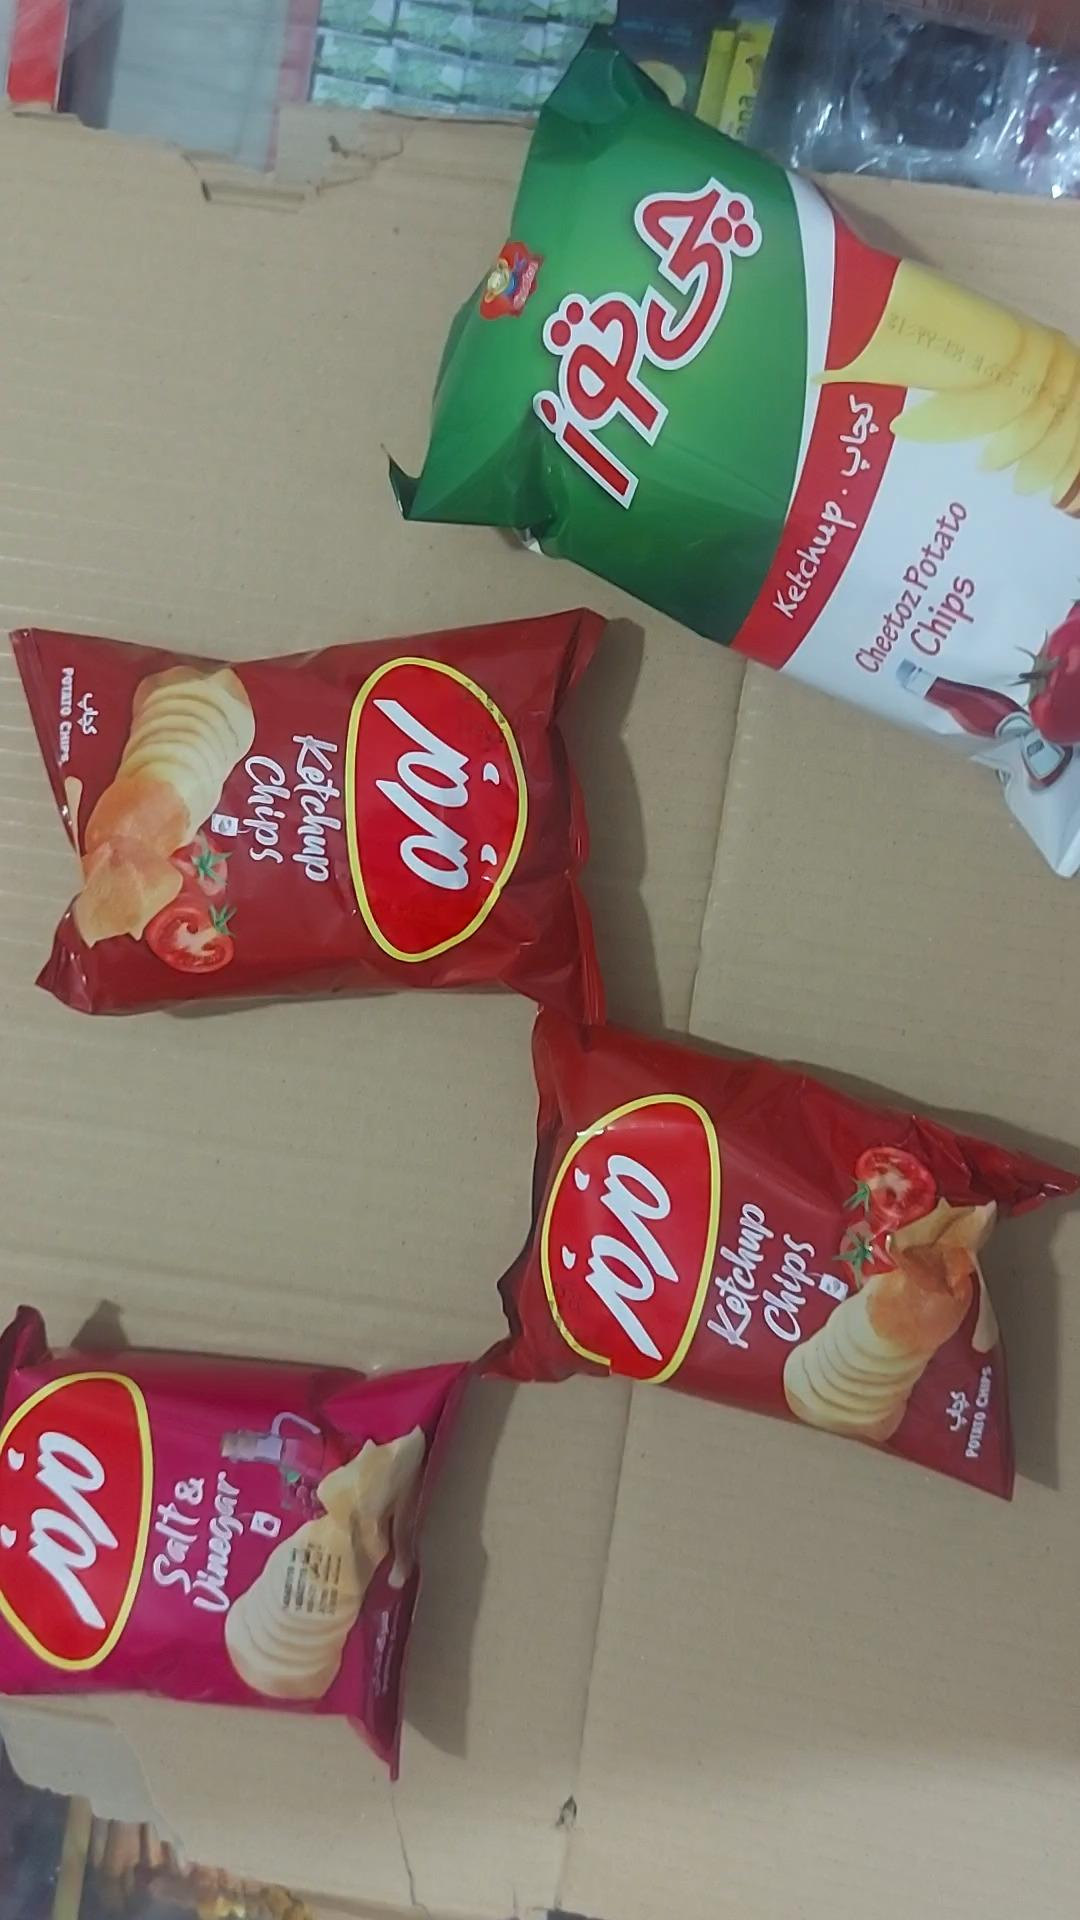Cheetoz ketchup chips: (384, 26, 1079, 886)
Maz Maz ketchup chips: (472, 1011, 1079, 1501), (11, 608, 608, 1026)
Maz Maz vinegar chips: (0, 1305, 469, 1783)
